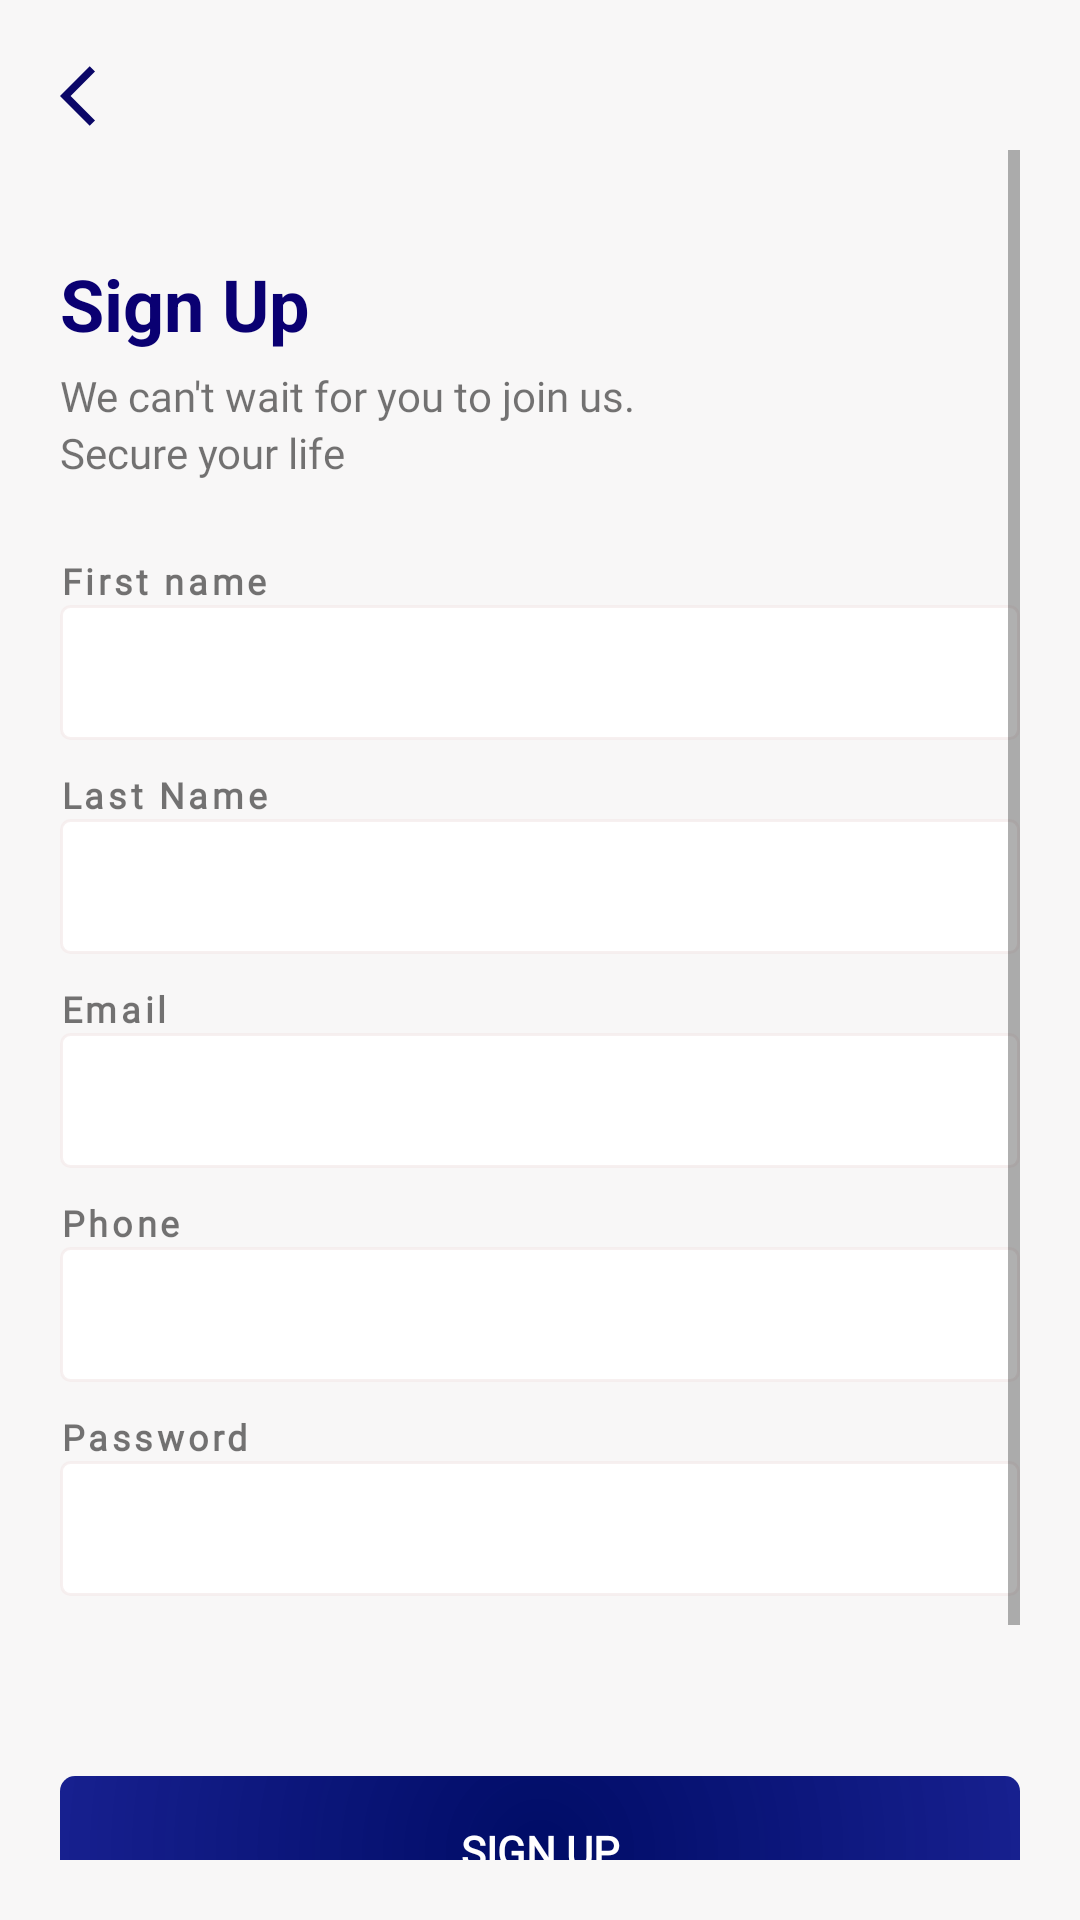

Icon bounding boxes for this 1080 × 1920 phone screenshot, format (x1, y1, x2, y2):
back: (60, 66, 95, 126)
